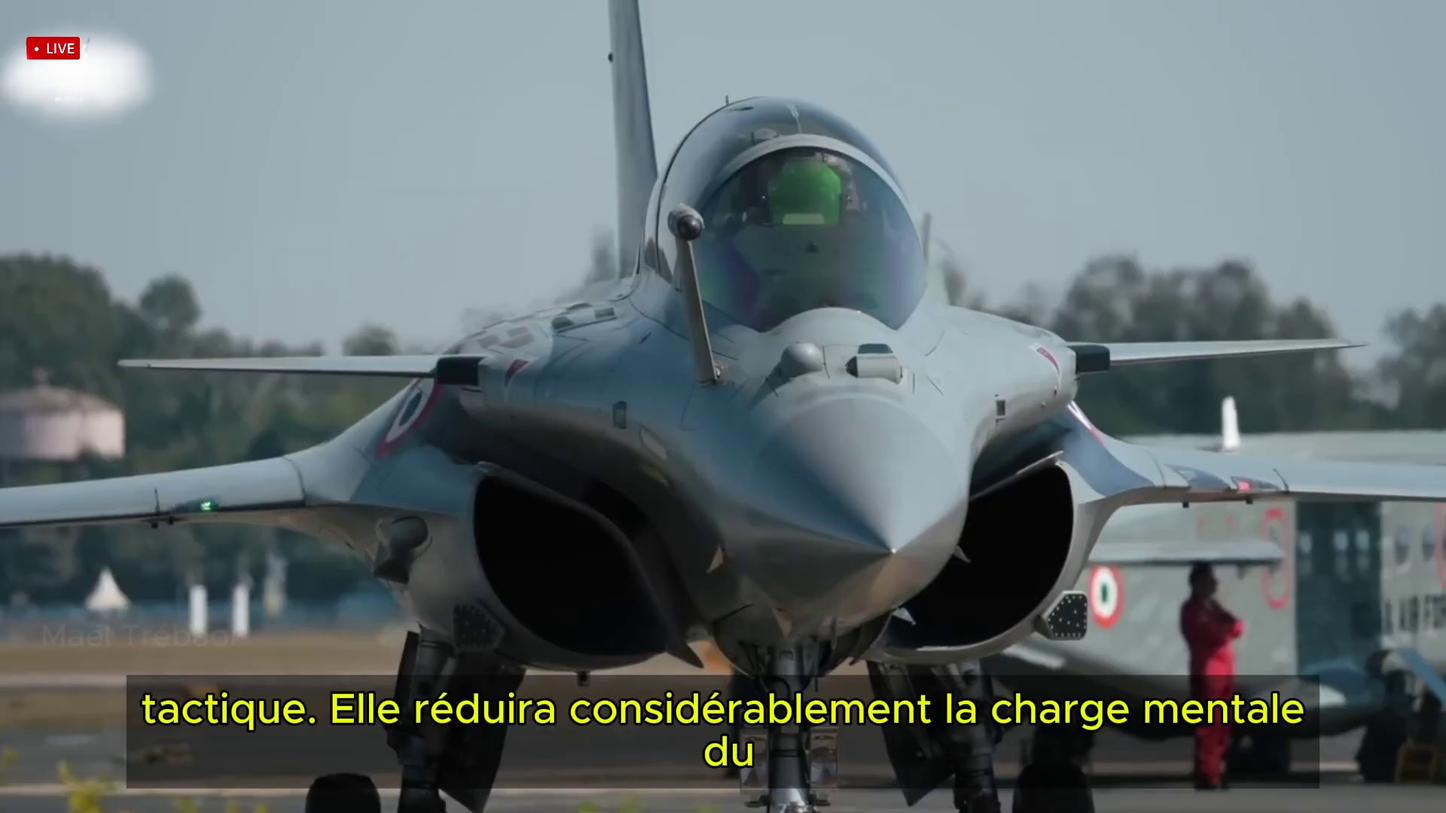Rafale: (0, 2, 1414, 803)
